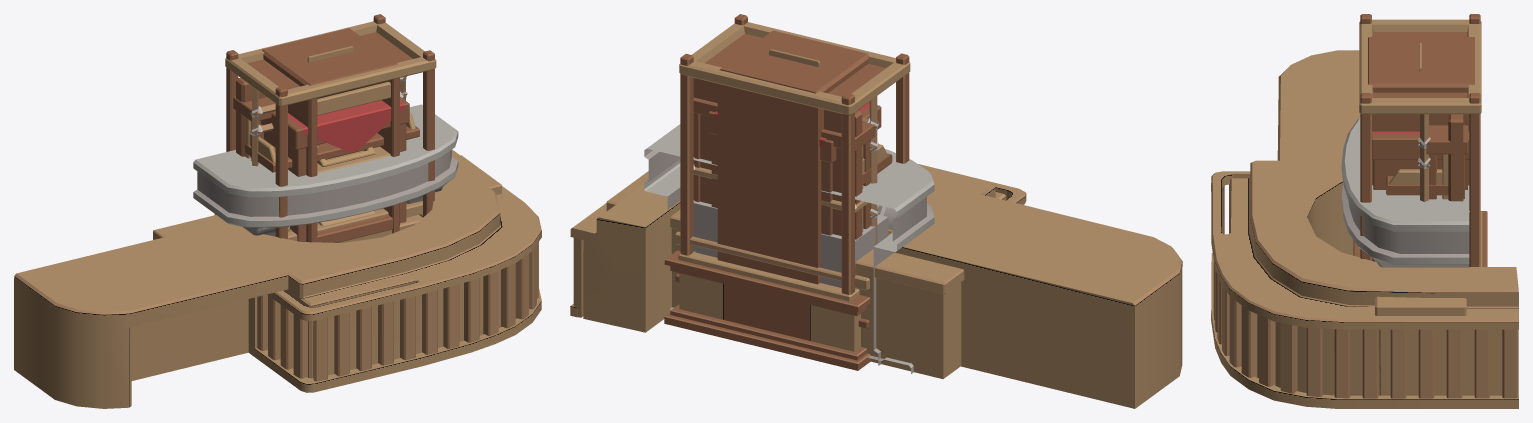
The model's file is shelf.fbx.
The picture shows the model from 3 angles, left to right: view 1: azimuth 30°, elevation 25°; view 2: azimuth 150°, elevation 25°; view 3: azimuth 270°, elevation 25°; orthographic projection. The views are drawn at different scales.
Parts seen in each view (by area): view 1: bar_1, fireplace, shelf_12, shelf_4, shelf_3, shelf_7, shelf_5, shelf_1, shelf_8; view 2: bar_1, shelf_12, shelf_4, shelf_5, fireplace, shelf_7, shelf_1, shelf_3; view 3: bar_1, shelf_12, fireplace, shelf_4, shelf_5, shelf_7, shelf_3, shelf_1.
Boxes of the visible parts, bbox=[...] form: bar_1: bbox=[14, 149, 541, 408]; fireplace: bbox=[193, 104, 458, 236]; shelf_12: bbox=[225, 14, 436, 239]; shelf_4: bbox=[262, 28, 399, 242]; shelf_3: bbox=[261, 97, 409, 241]; shelf_7: bbox=[236, 77, 419, 231]; shelf_5: bbox=[153, 155, 501, 240]; shelf_1: bbox=[233, 96, 422, 242]; shelf_8: bbox=[307, 46, 375, 226]; bar_1: bbox=[570, 164, 1182, 408]; shelf_12: bbox=[664, 14, 910, 370]; shelf_4: bbox=[717, 30, 869, 284]; shelf_5: bbox=[606, 171, 964, 378]; fireplace: bbox=[644, 124, 934, 373]; shelf_7: bbox=[693, 78, 892, 239]; shelf_1: bbox=[675, 97, 875, 290]; shelf_3: bbox=[708, 102, 881, 235]; bar_1: bbox=[1211, 50, 1518, 408]; shelf_12: bbox=[1353, 14, 1487, 266]; fireplace: bbox=[1341, 118, 1469, 267]; shelf_4: bbox=[1368, 37, 1474, 260]; shelf_5: bbox=[1375, 261, 1466, 395]; shelf_7: bbox=[1386, 114, 1463, 201]; shelf_3: bbox=[1372, 131, 1469, 261]; shelf_1: bbox=[1426, 125, 1468, 199].
Size of the model in its own units: 226 by 218 by 442.
